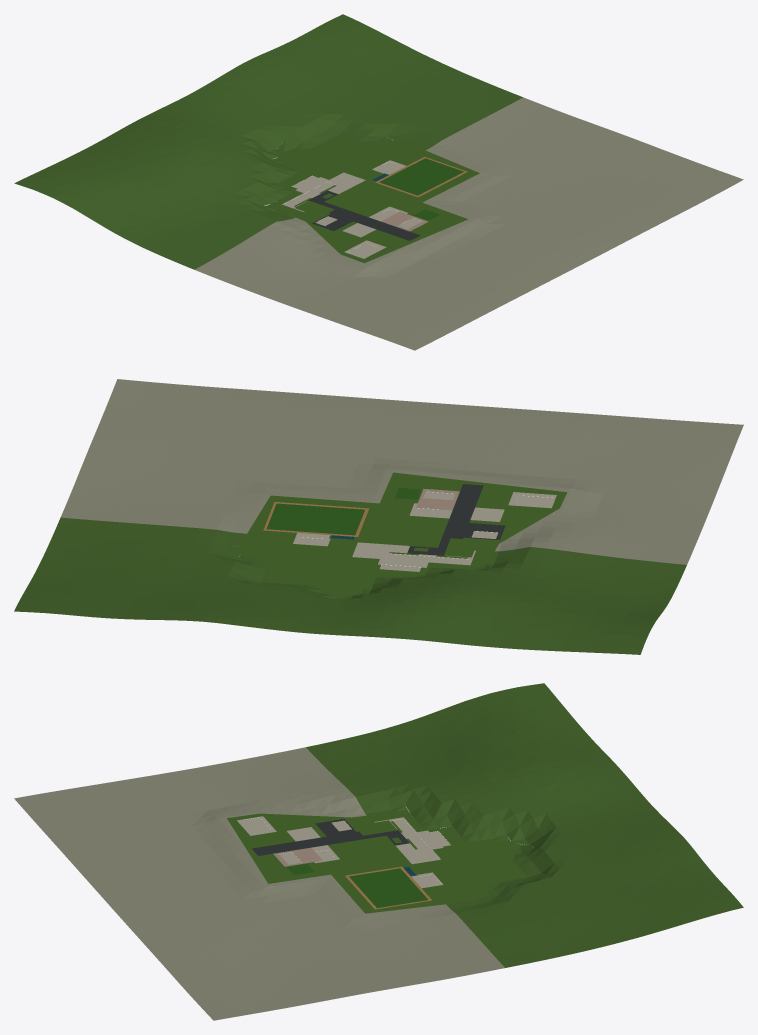
The picture shows the model from 3 angles, top to bottom: view 1: azimuth 30°, elevation 25°; view 2: azimuth 150°, elevation 25°; view 3: azimuth 270°, elevation 25°; orthographic projection. The views are drawn at different scales.
Parts seen in each view (by area): view 1: ground_context-estimated, surface_school-green-grounds, surface_sports-field, surface_gate-entry-road, surface_east-avenue-garden, surface_central-plaza-apron; view 2: ground_context-estimated, surface_school-green-grounds, surface_sports-field, surface_gate-entry-road, surface_east-avenue-garden, surface_central-plaza-apron, surface_greenhouse-yard, surface_sports-track-apron, surface_practice-plaza, surface_west-hill-garden, surface_underbuilding-main; view 3: ground_context-estimated, surface_school-green-grounds, surface_sports-field, surface_gate-entry-road, surface_east-avenue-garden, surface_central-plaza-apron.
Boxes of the visible parts, left/top/right/bottom form: ground_context-estimated: left=14, top=14, right=743, bottom=350; surface_school-green-grounds: left=276, top=136, right=479, bottom=263; surface_sports-field: left=379, top=158, right=463, bottom=195; surface_gate-entry-road: left=319, top=202, right=420, bottom=240; surface_east-avenue-garden: left=325, top=189, right=378, bottom=211; surface_central-plaza-apron: left=282, top=172, right=365, bottom=211; ground_context-estimated: left=14, top=379, right=743, bottom=654; surface_school-green-grounds: left=238, top=472, right=567, bottom=598; surface_sports-field: left=266, top=503, right=364, bottom=535; surface_gate-entry-road: left=438, top=484, right=483, bottom=548; surface_east-avenue-garden: left=391, top=525, right=443, bottom=547; surface_central-plaza-apron: left=352, top=542, right=475, bottom=565; surface_greenhouse-yard: left=409, top=503, right=504, bottom=521; surface_sports-track-apron: left=263, top=502, right=369, bottom=536; surface_practice-plaza: left=416, top=488, right=459, bottom=510; surface_west-hill-garden: left=444, top=538, right=478, bottom=557; surface_underbuilding-main: left=385, top=553, right=468, bottom=564; ground_context-estimated: left=14, top=683, right=743, bottom=1020; surface_school-green-grounds: left=227, top=812, right=526, bottom=913; surface_sports-field: left=349, top=868, right=428, bottom=908; surface_gate-entry-road: left=252, top=831, right=385, bottom=855; surface_east-avenue-garden: left=347, top=836, right=400, bottom=858; surface_central-plaza-apron: left=374, top=817, right=440, bottom=864.
Bounding box in the file's own units: 927 × 46.88 × 927.
10 materials, 10 textured.
